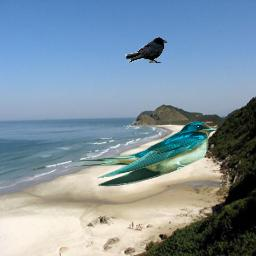Crow: (125, 37, 168, 63)
Swallow: (69, 121, 216, 187)
